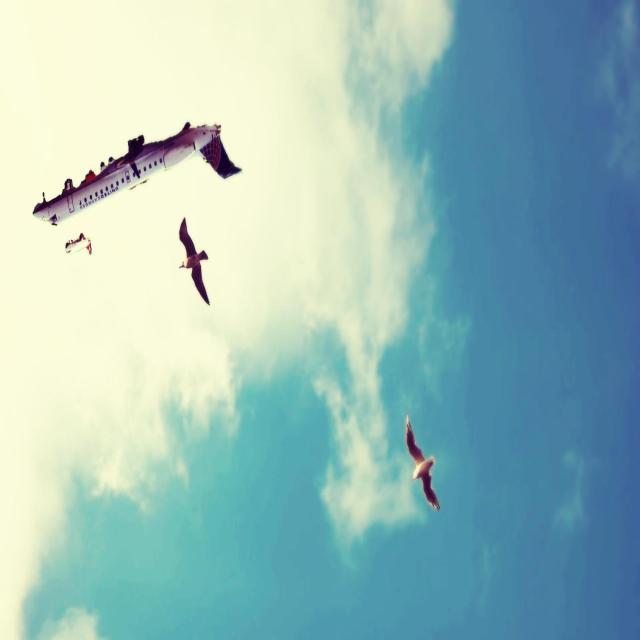airplane: (32, 120, 242, 227), (65, 232, 92, 255)
